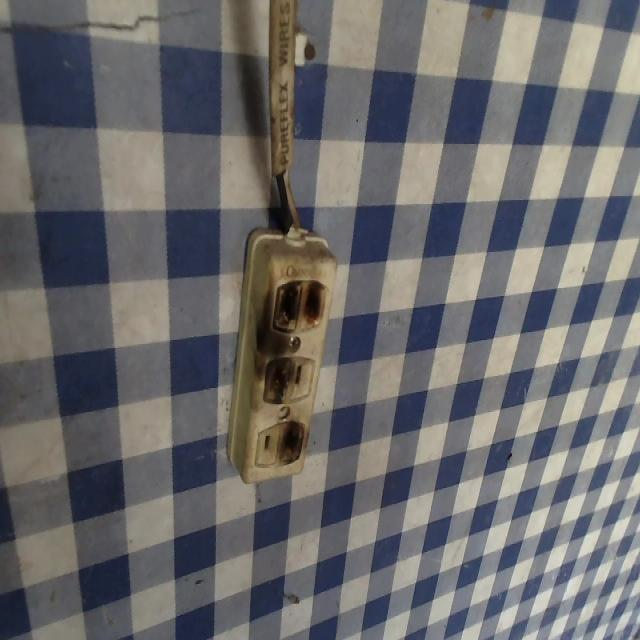-: (268, 275, 328, 333), (260, 355, 294, 400), (277, 418, 306, 466)
